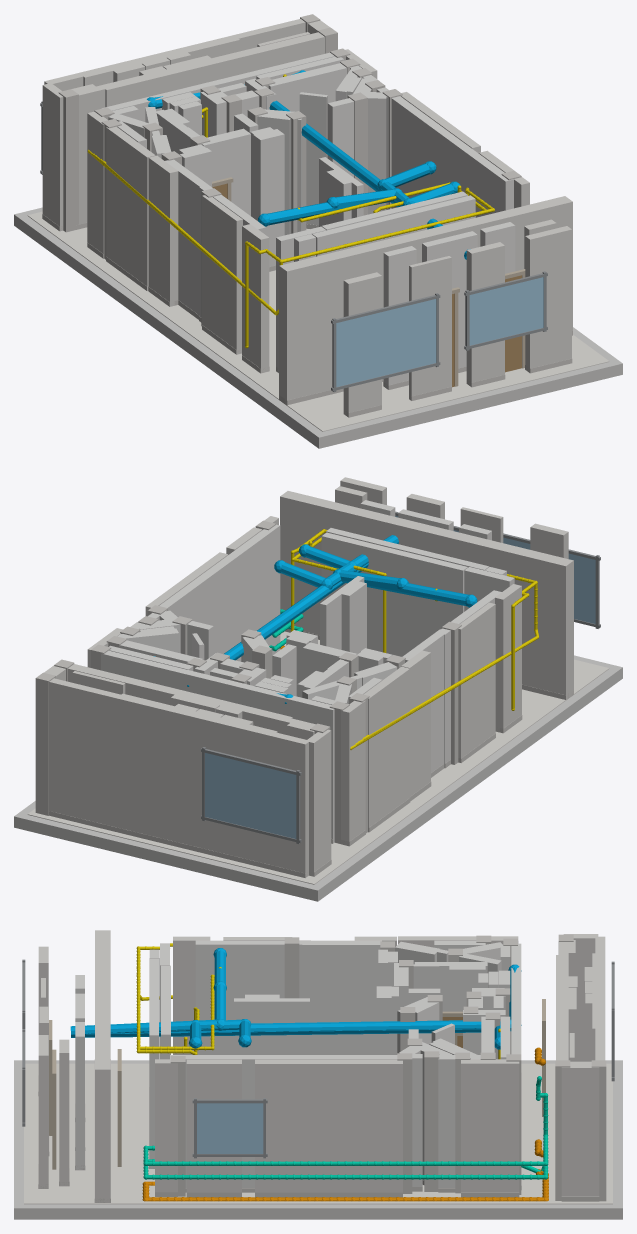
File: bim_b10b11e4c8bb.glb
3 renders of one model, top to bottom at view 1: azimuth 30°, elevation 25°; view 2: azimuth 150°, elevation 25°; view 3: azimuth 270°, elevation 25°, orthographic.
Parts seen in each view (by area): view 1: arch_geometry_0, arch_geometry_5, arch_geometry_17, arch_geometry_245, arch_geometry_193, arch_geometry_37, arch_geometry_49, arch_geometry_13, arch_geometry_1, arch_geometry_115, arch_geometry_250, arch_geometry_65 (+44 smaller); view 2: arch_geometry_11, arch_geometry_3, arch_geometry_0, arch_geometry_17, arch_geometry_27, arch_geometry_255, arch_geometry_9, arch_geometry_37, arch_geometry_49, arch_geometry_193, arch_geometry_81, arch_geometry_23 (+38 smaller); view 3: arch_geometry_15, arch_geometry_0, arch_geometry_25, arch_geometry_85, arch_geometry_194, arch_geometry_59, arch_geometry_67, arch_geometry_193, arch_geometry_73, arch_geometry_260, arch_geometry_63, arch_geometry_196 (+58 smaller).
Part boxes in pixels (bbox=[...]): arch_geometry_0: bbox=[14, 207, 622, 448]; arch_geometry_5: bbox=[282, 199, 572, 405]; arch_geometry_17: bbox=[391, 96, 513, 217]; arch_geometry_245: bbox=[336, 299, 436, 387]; arch_geometry_193: bbox=[126, 270, 471, 431]; arch_geometry_37: bbox=[106, 126, 155, 290]; arch_geometry_49: bbox=[202, 195, 242, 354]; arch_geometry_13: bbox=[525, 226, 571, 372]; arch_geometry_1: bbox=[102, 33, 324, 107]; arch_geometry_115: bbox=[148, 155, 178, 306]; arch_geometry_250: bbox=[469, 277, 543, 345]; arch_geometry_65: bbox=[409, 256, 451, 400]; arch_geometry_11: bbox=[49, 678, 309, 877]; arch_geometry_3: bbox=[280, 493, 570, 699]; arch_geometry_0: bbox=[14, 655, 622, 901]; arch_geometry_17: bbox=[159, 524, 280, 661]; arch_geometry_27: bbox=[321, 532, 467, 656]; arch_geometry_255: bbox=[205, 753, 296, 838]; arch_geometry_9: bbox=[101, 650, 334, 843]; arch_geometry_37: bbox=[363, 666, 409, 831]; arch_geometry_49: bbox=[458, 602, 495, 758]; arch_geometry_193: bbox=[401, 659, 609, 812]; arch_geometry_81: bbox=[341, 700, 365, 844]; arch_geometry_23: bbox=[495, 584, 521, 732]; arch_geometry_15: bbox=[255, 1059, 402, 1192]; arch_geometry_0: bbox=[14, 1060, 622, 1219]; arch_geometry_25: bbox=[302, 940, 381, 1054]; arch_geometry_85: bbox=[461, 1059, 519, 1192]; arch_geometry_194: bbox=[24, 1136, 416, 1204]; arch_geometry_59: bbox=[195, 940, 284, 1054]; arch_geometry_67: bbox=[561, 1061, 599, 1196]; arch_geometry_193: bbox=[24, 1063, 149, 1136]; arch_geometry_73: bbox=[186, 1059, 241, 1192]; arch_geometry_260: bbox=[197, 1103, 263, 1153]; arch_geometry_63: bbox=[234, 998, 309, 1054]; arch_geometry_196: bbox=[416, 1136, 612, 1204].
Size of the model in its own units: 7.1 by 3.29 by 12.34.
